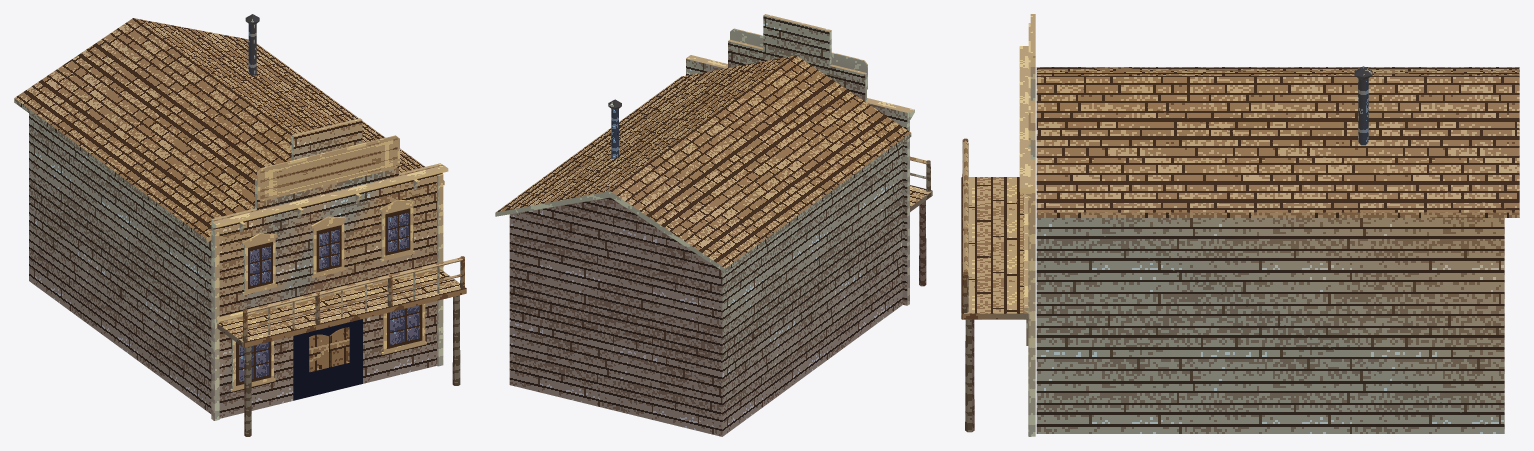
File: wtown.saloon__entry.glb
The picture shows the model from 3 angles, left to right: view 1: azimuth 30°, elevation 25°; view 2: azimuth 150°, elevation 25°; view 3: azimuth 270°, elevation 25°; orthographic projection. The views are drawn at different scales.
Visible parts, largest first — view 1: kit_roof, kit_body, kit_front, kit_card_panes, kit_balcony, kit_trim, kit_windows, kit_door, kit_stovepipe; view 2: kit_body, kit_roof, kit_front, kit_trim, kit_balcony, kit_stovepipe; view 3: kit_body, kit_roof, kit_balcony, kit_trim, kit_front, kit_stovepipe.
Part boxes in pixels (x1,y1,x2,y2): kit_roof: (14,18,444,242); kit_body: (29,113,399,413); kit_front: (211,118,442,419); kit_card_panes: (236,138,422,400); kit_balcony: (217,256,466,436); kit_trim: (211,135,448,420); kit_windows: (230,199,426,391); kit_door: (309,327,349,372); kit_stovepipe: (245,14,259,75); kit_body: (509,143,902,436); kit_roof: (495,55,911,272); kit_front: (686,14,909,305); kit_trim: (686,28,914,304); kit_balcony: (910,156,932,286); kit_stovepipe: (608,99,621,158); kit_body: (1036,218,1504,433); kit_roof: (1036,67,1519,217); kit_balcony: (961,138,1028,432); kit_trim: (1019,23,1031,436); kit_front: (1030,14,1035,436); kit_stovepipe: (1354,66,1372,145).
Bounding box in the file's own units: 8.1 × 8.7 × 13.12.
12 materials, 12 textured.
